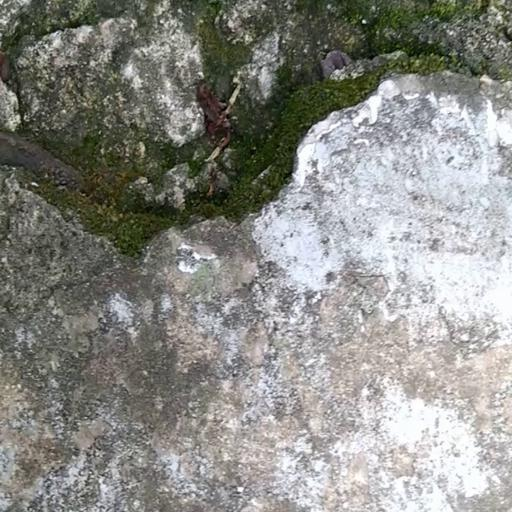spalling: (4, 0, 497, 279)
